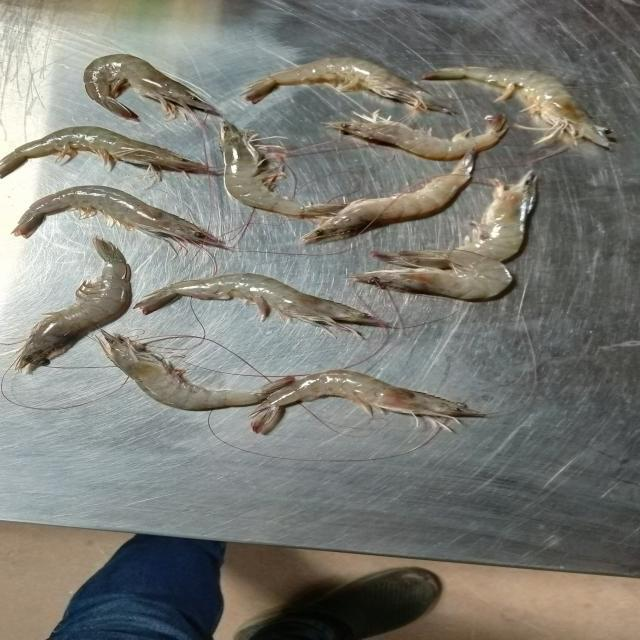shrimp: (301, 151, 474, 244), (135, 272, 390, 335), (372, 172, 536, 269), (15, 238, 131, 371), (421, 66, 609, 148), (100, 331, 294, 410), (250, 370, 483, 434), (13, 185, 226, 248), (219, 121, 343, 218), (243, 58, 452, 114), (0, 126, 212, 178), (84, 54, 219, 124), (328, 111, 507, 160), (352, 259, 511, 300)
